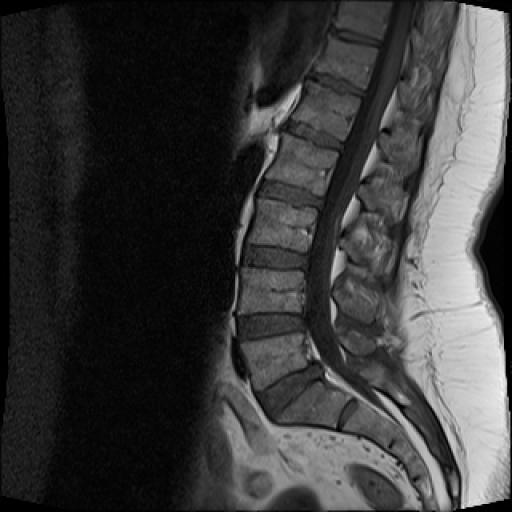L1: (290, 80, 364, 144)
L2: (265, 132, 339, 196)
L3: (248, 198, 317, 254)
L4: (239, 267, 304, 314)
L5: (240, 333, 307, 390)
S1: (273, 379, 355, 428)
